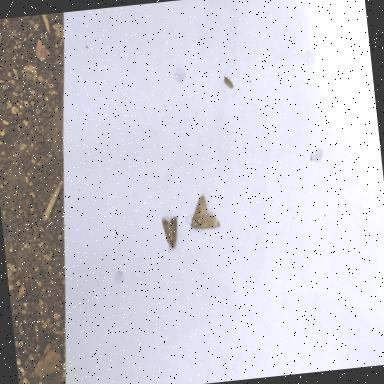abw: (184, 194, 220, 231), (162, 216, 183, 253)
pbw: (223, 74, 234, 89)
